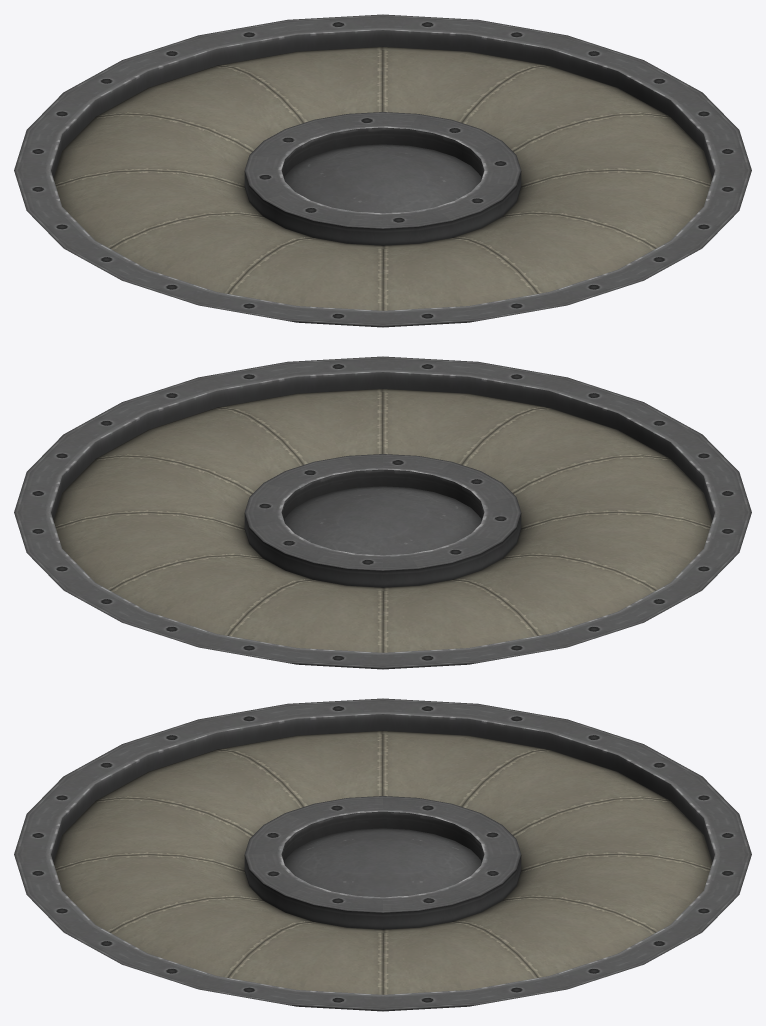
File: end_basic_s2_s0p5.obj
3 views of the same model, one above another, from view 1: azimuth 30°, elevation 25°; view 2: azimuth 150°, elevation 25°; view 3: azimuth 270°, elevation 25° (orthographic).
Visible parts, largest first — view 1: end; view 2: end; view 3: end.
Part boxes in pixels (x1,y1,x2,y2): end: (14,14,751,327); end: (14,356,751,669); end: (14,698,751,1011).
Size of the model in its own units: 2.5 by 0.0625 by 2.5.
